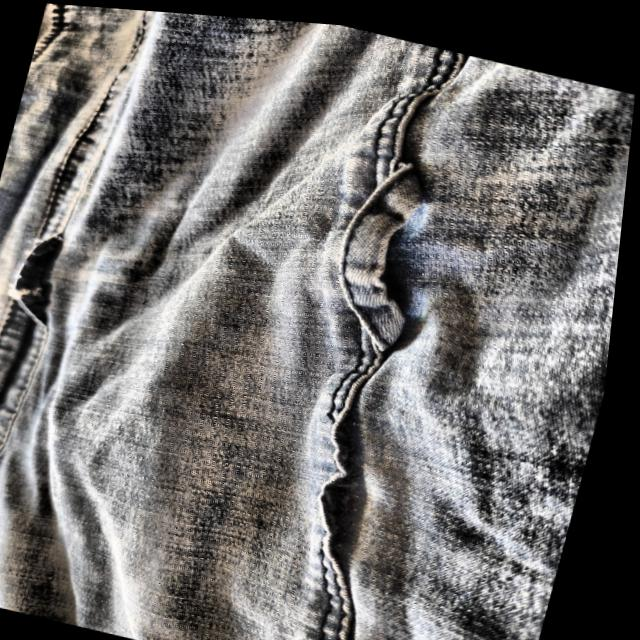seam: (292, 377, 420, 585), (8, 225, 94, 336)
